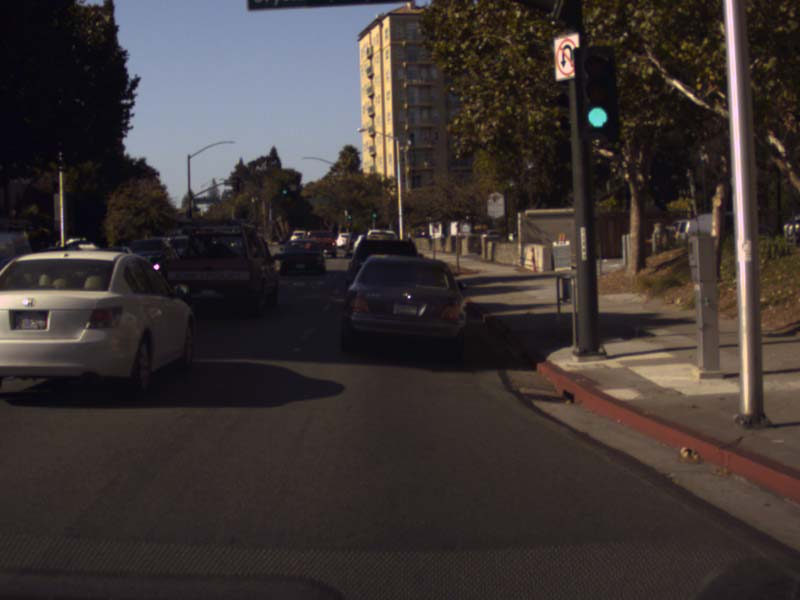Green: (576, 48, 615, 133), (281, 187, 288, 195), (347, 208, 351, 219), (371, 210, 376, 218)
